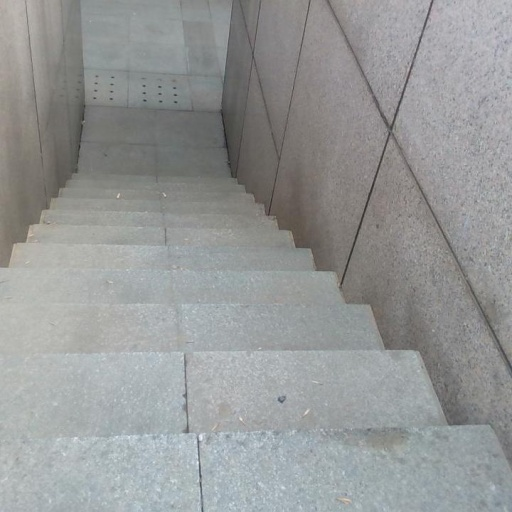Stairs: (0, 108, 512, 512)
